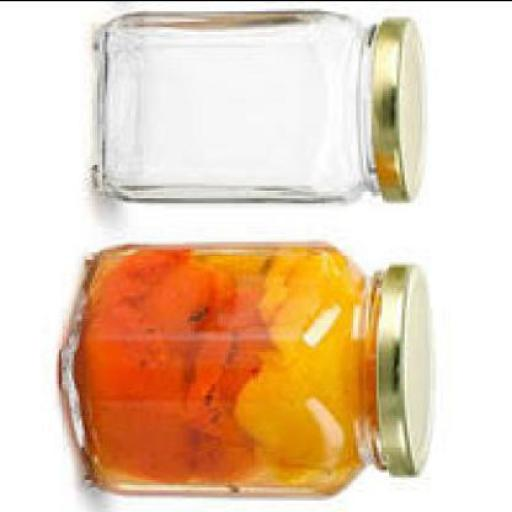biodegradable: (81, 312, 187, 418), (240, 376, 351, 471), (89, 402, 205, 484), (267, 256, 350, 353), (154, 262, 235, 348), (105, 251, 197, 315), (228, 287, 272, 389), (197, 351, 246, 432), (190, 432, 258, 486), (269, 456, 359, 489)
glass: (61, 246, 389, 496), (97, 13, 384, 207)
metal: (374, 269, 435, 478), (376, 18, 428, 202)
